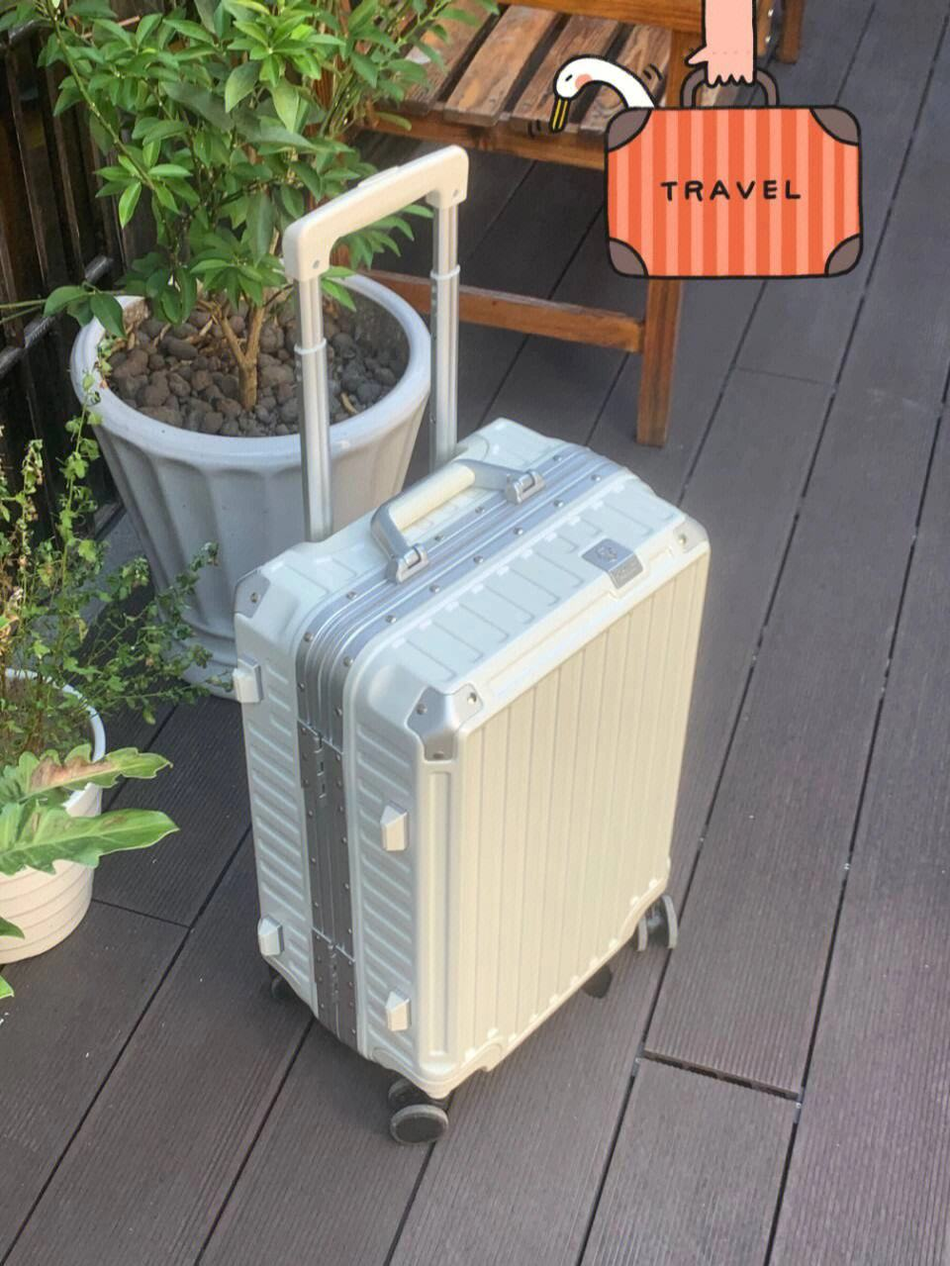box: (233, 416, 711, 1090)
handle: (368, 455, 546, 584)
wheel: (386, 1077, 451, 1145), (631, 894, 680, 952)
